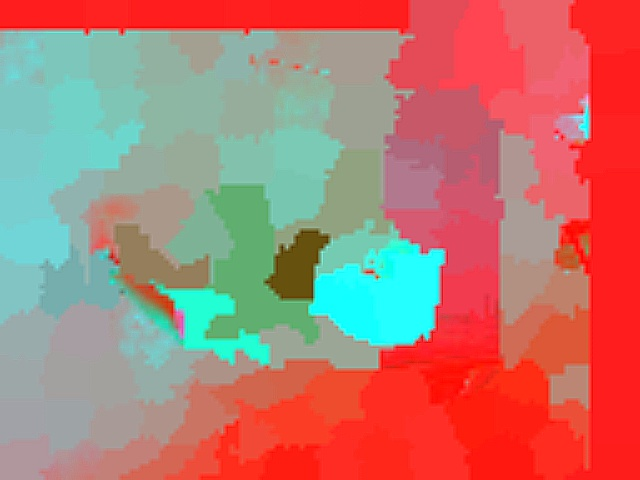eight: (342, 244, 383, 292)
